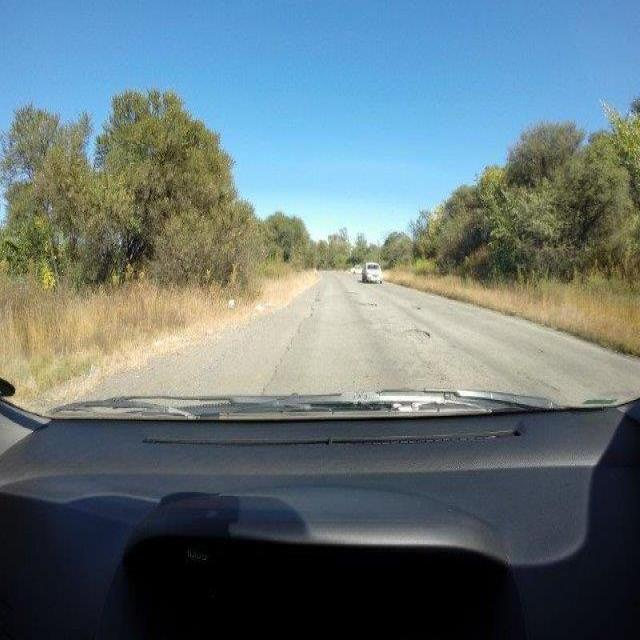lubang: (304, 290, 327, 320), (341, 282, 363, 302), (402, 325, 431, 339), (358, 298, 380, 311)
